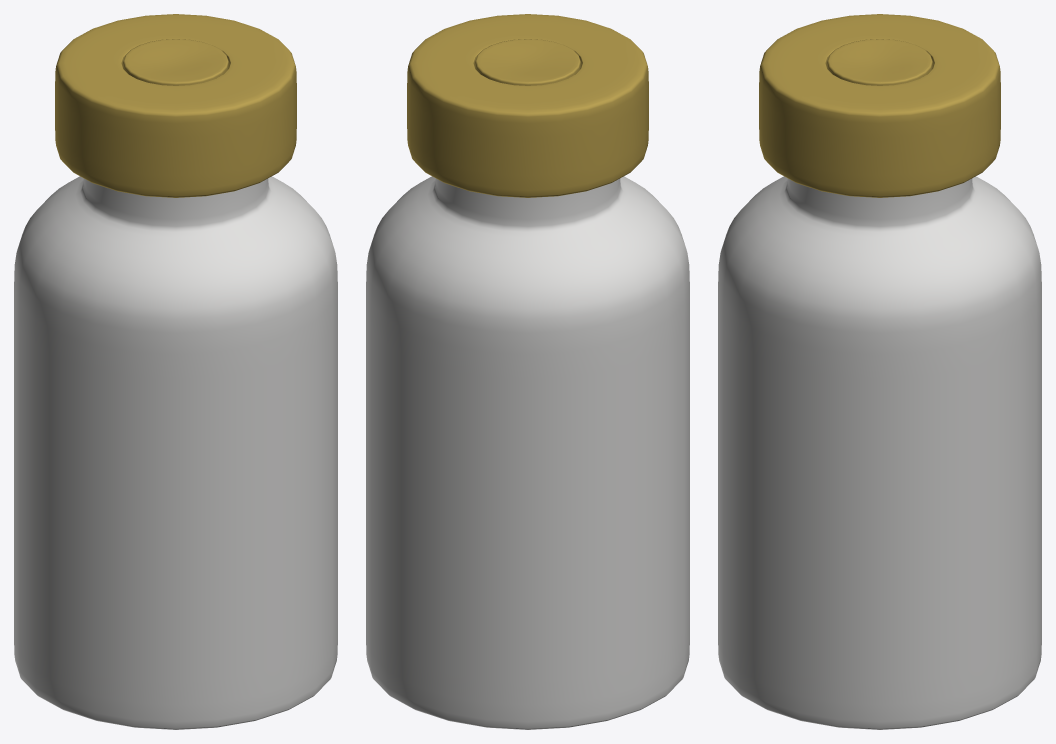
File: SYLVICEXTRACT.fbx
3 renders of one model, left to right at view 1: azimuth 30°, elevation 25°; view 2: azimuth 150°, elevation 25°; view 3: azimuth 270°, elevation 25°, orthographic.
Parts seen in each view (by area): view 1: vacineobj; view 2: vacineobj; view 3: vacineobj.
Boxes of the visible parts, <box> form: vacineobj: <box>14,14,337,729</box>; vacineobj: <box>366,14,689,729</box>; vacineobj: <box>718,14,1041,729</box>.
Bounding box in the file's own units: 16.53 × 33.95 × 16.53.
